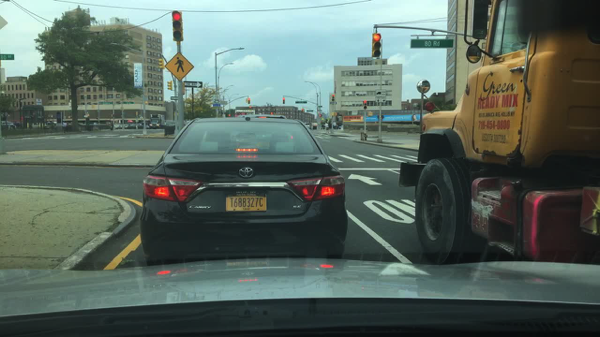car: (141, 118, 348, 266), (239, 114, 286, 118), (44, 119, 58, 131), (1, 121, 17, 130), (62, 119, 73, 131), (124, 119, 137, 129), (100, 120, 113, 130), (78, 119, 88, 131), (114, 119, 124, 130), (89, 119, 98, 131), (138, 119, 149, 128), (183, 119, 195, 126), (160, 120, 168, 130), (304, 122, 311, 129)
person: (325, 121, 329, 130), (333, 121, 335, 129), (336, 123, 338, 131), (321, 123, 323, 130)
traffic light: (172, 11, 184, 43), (372, 32, 382, 59), (158, 59, 165, 69), (168, 81, 172, 91), (363, 101, 367, 109), (282, 97, 285, 104), (227, 112, 231, 117), (250, 104, 253, 110), (334, 112, 337, 117), (301, 108, 304, 113), (248, 98, 250, 104)
traffic sign: (165, 52, 194, 80), (411, 39, 454, 50), (375, 88, 385, 102), (0, 16, 9, 31), (184, 81, 202, 88), (213, 94, 220, 108), (1, 54, 14, 61), (329, 94, 337, 104), (99, 101, 113, 104), (36, 99, 42, 105), (170, 97, 178, 101), (220, 101, 228, 105), (367, 112, 373, 117), (295, 102, 307, 104), (122, 102, 134, 104), (271, 110, 275, 116), (306, 110, 314, 112), (317, 106, 323, 108), (318, 110, 323, 112), (331, 110, 332, 117)
truck: (399, 0, 598, 263), (150, 114, 160, 130), (167, 121, 176, 127)
